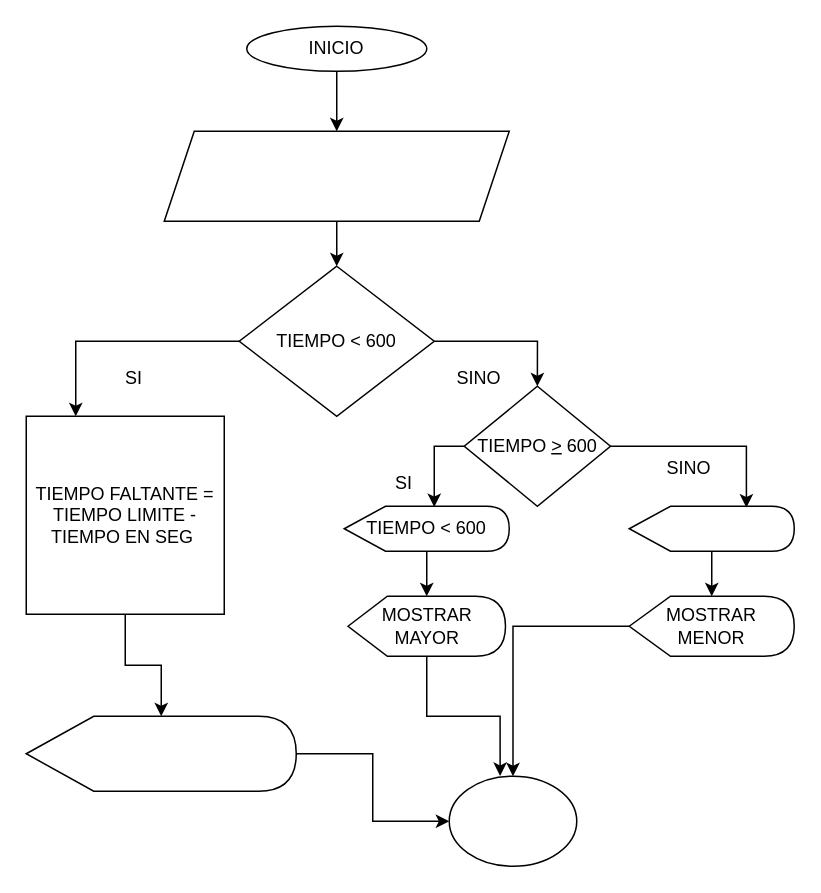
The diagram is 821 pixels wide and 893 high, and some of its shapes have lost their labels. The centre of each missing label's shape, as x and y in pixels:
"FIN" goes at [512,820].
"INGRESAR TIEMPO EN SEG" goes at [336,175].
"MOSTRAR TIEMPO FALTANTE" goes at [160,753].
"TIEMPO = 600" goes at [711,528].
